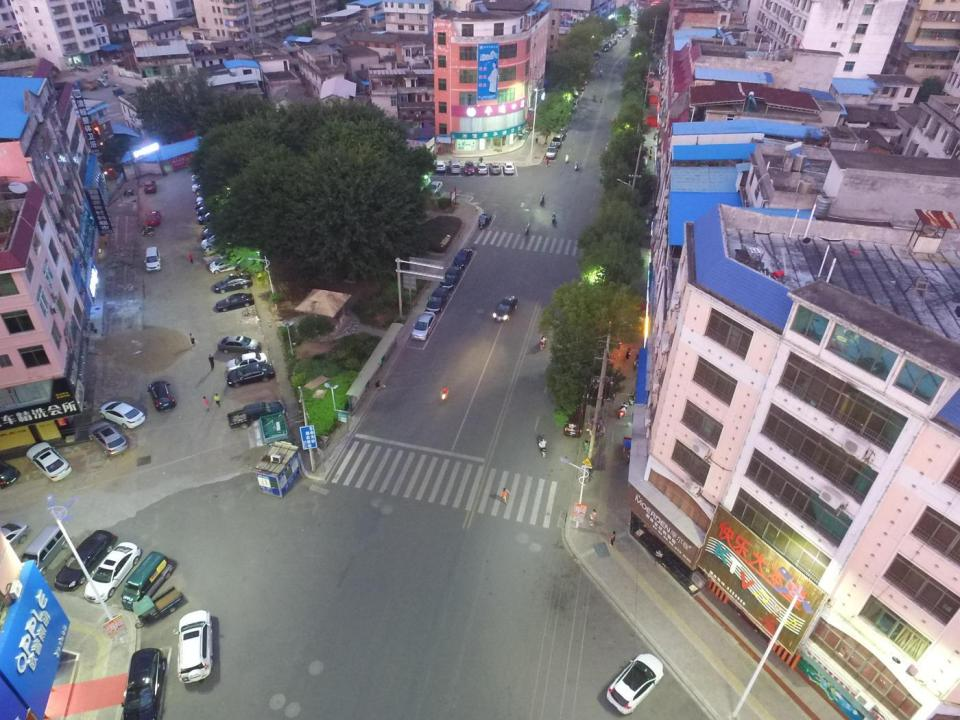car: (53, 529, 116, 592), (606, 653, 664, 714), (84, 542, 141, 604), (120, 648, 167, 720), (174, 610, 213, 684), (26, 442, 73, 482), (87, 420, 129, 456), (226, 361, 276, 388), (98, 400, 146, 428), (0, 520, 30, 552), (147, 380, 176, 413), (217, 335, 262, 354), (226, 352, 268, 372), (215, 292, 255, 312), (214, 274, 253, 294), (208, 254, 247, 274), (411, 311, 436, 341), (492, 294, 518, 322), (426, 286, 449, 313), (439, 264, 462, 290), (204, 241, 234, 258), (201, 233, 229, 250), (452, 247, 472, 269), (200, 224, 224, 240), (198, 211, 220, 225), (426, 180, 443, 197), (193, 198, 215, 210), (145, 210, 161, 226), (196, 204, 218, 215), (191, 181, 210, 193), (191, 169, 210, 181), (545, 142, 558, 159), (196, 193, 214, 204), (143, 179, 157, 193), (503, 161, 516, 174), (463, 161, 475, 174), (476, 162, 488, 175), (490, 162, 501, 175), (434, 160, 446, 171)
truck: (227, 399, 286, 429), (78, 78, 99, 91)
van: (120, 550, 175, 612), (20, 524, 68, 578), (563, 403, 584, 438), (143, 247, 161, 271), (448, 159, 461, 174), (550, 133, 562, 147), (95, 77, 110, 88)
